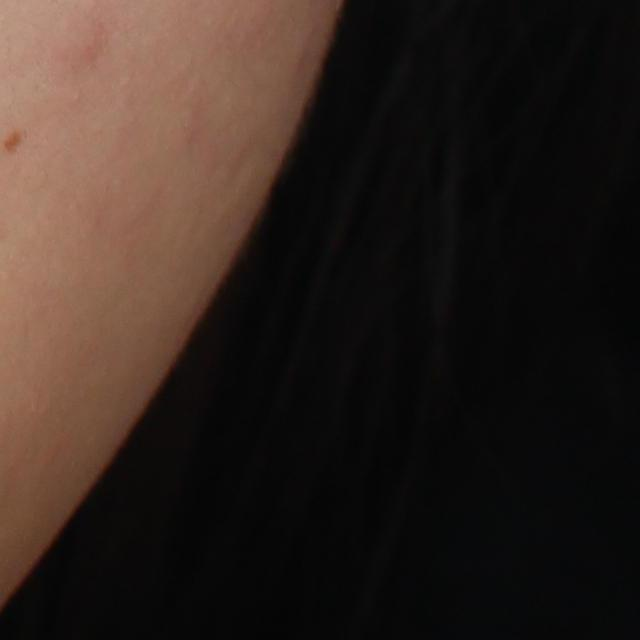nevus: (2, 128, 28, 156)
